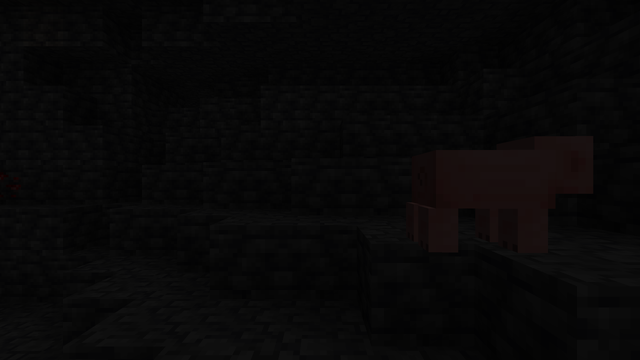cochons: (411, 144, 539, 256)
